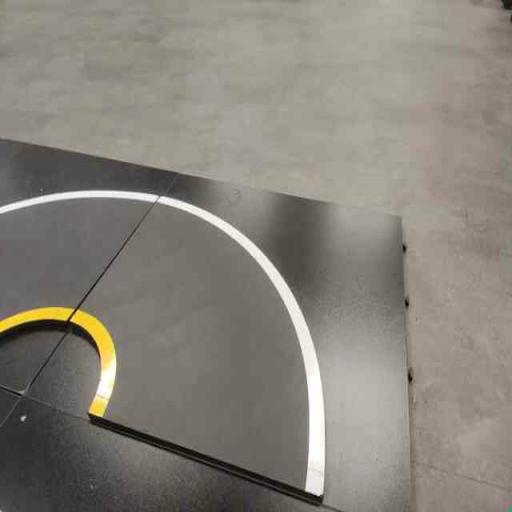left: (23, 185, 377, 506)
